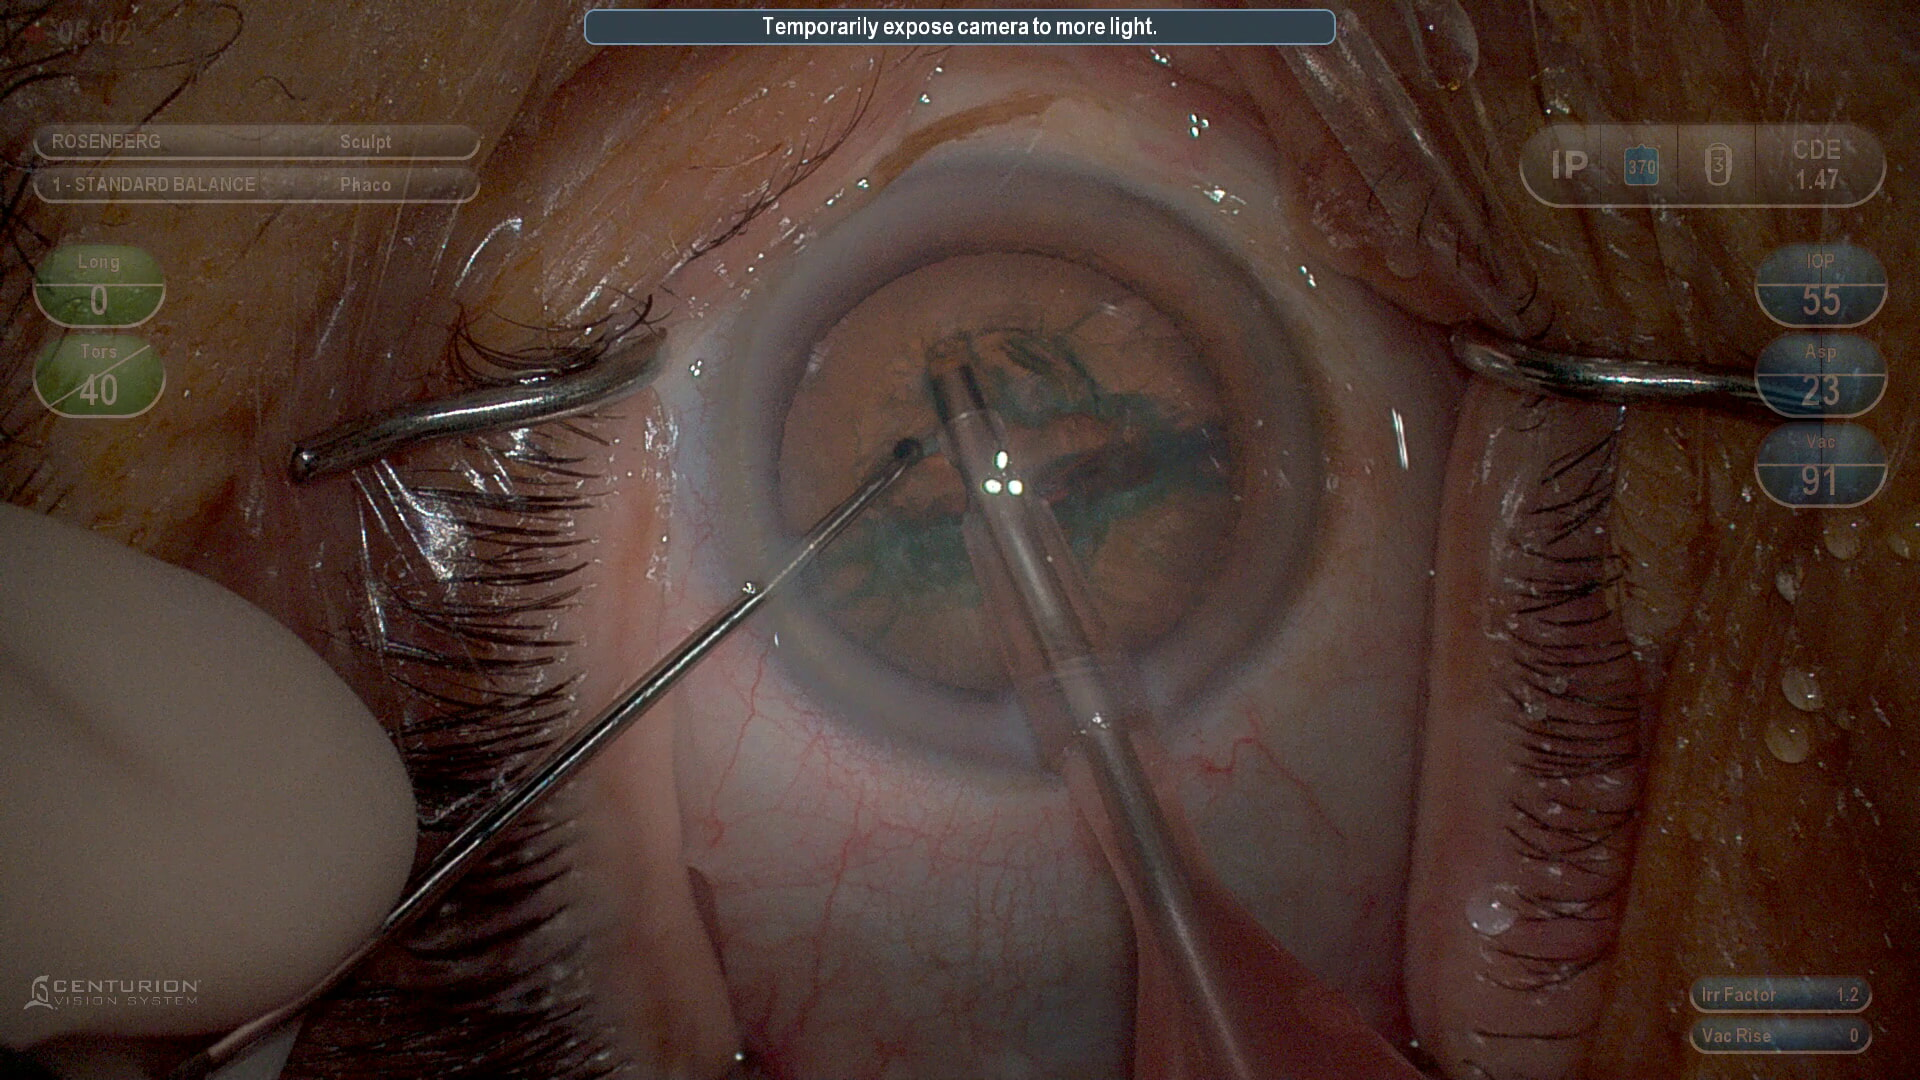iris: (733, 175, 1303, 733)
pupil: (774, 248, 1254, 699)
